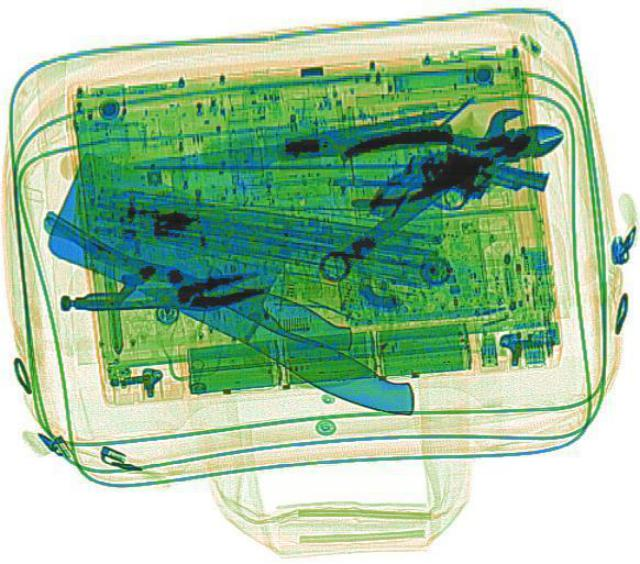Gun: (364, 129, 550, 254)
Knife: (19, 145, 471, 425), (92, 240, 360, 354)
Pliers: (332, 101, 574, 210)
Wrench: (306, 99, 538, 288)
